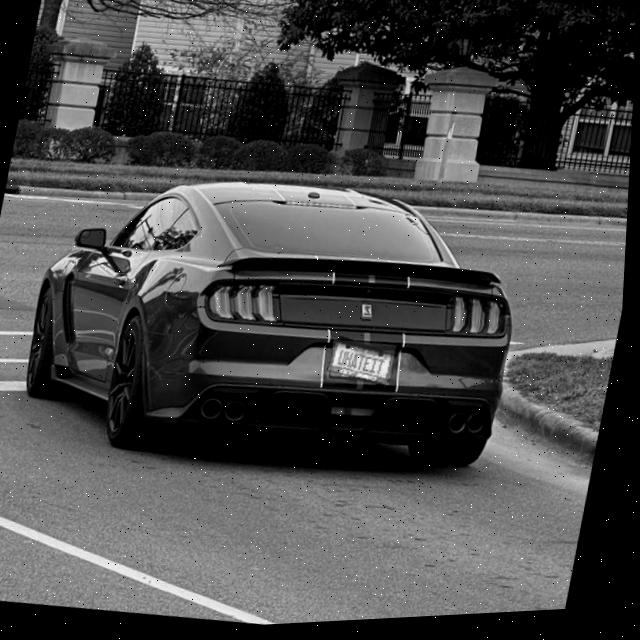LicensePlate: (332, 344, 399, 389)
